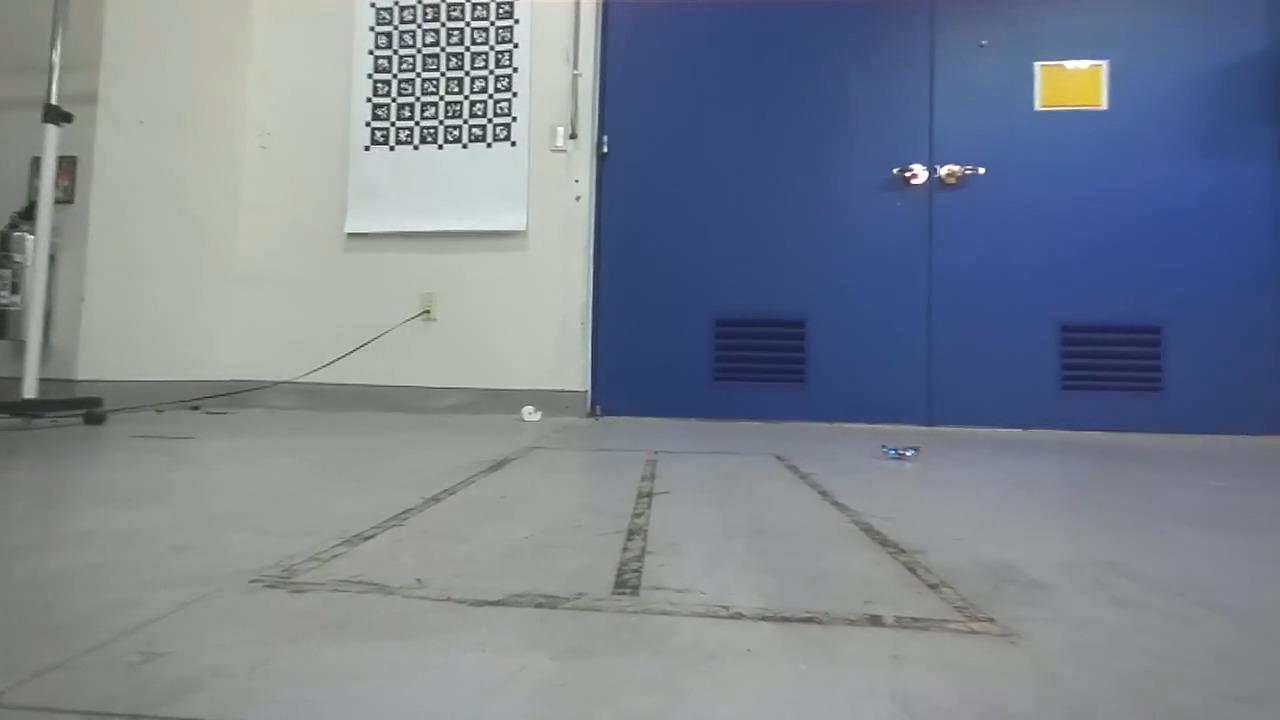crazyflie: (876, 437, 928, 468)
